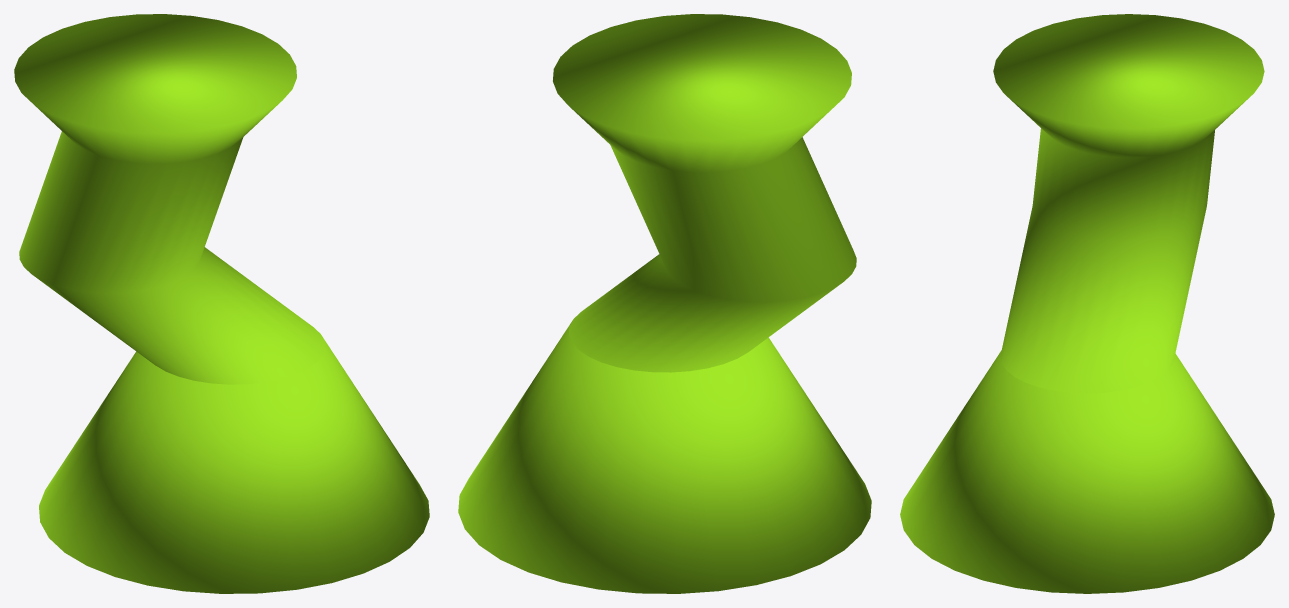
Rendered from marcador-03.glb.
3 renders of one model, left to right at view 1: azimuth 30°, elevation 25°; view 2: azimuth 150°, elevation 25°; view 3: azimuth 270°, elevation 25°, orthographic. The views are drawn at different scales.
Visible parts, largest first — view 1: Cylinder; view 2: Cylinder; view 3: Cylinder.
Boxes of the visible parts, bbox=[...] form: Cylinder: bbox=[14, 14, 429, 593]; Cylinder: bbox=[458, 14, 871, 593]; Cylinder: bbox=[900, 14, 1274, 593].
Bounding box in the file's own units: 4.51 × 5.27 × 4.3.
